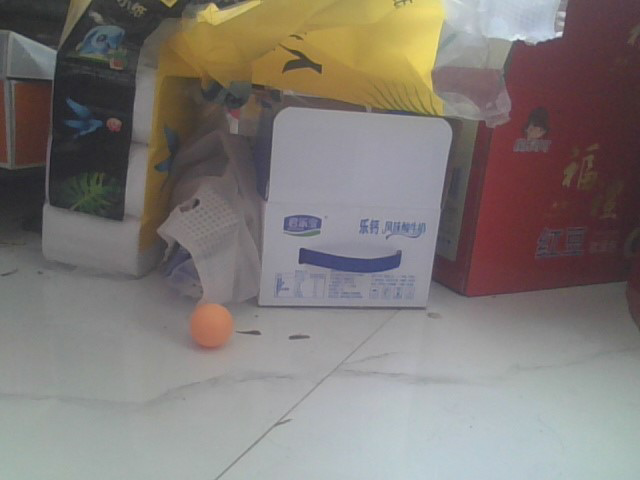ball: (190, 302, 232, 351)
